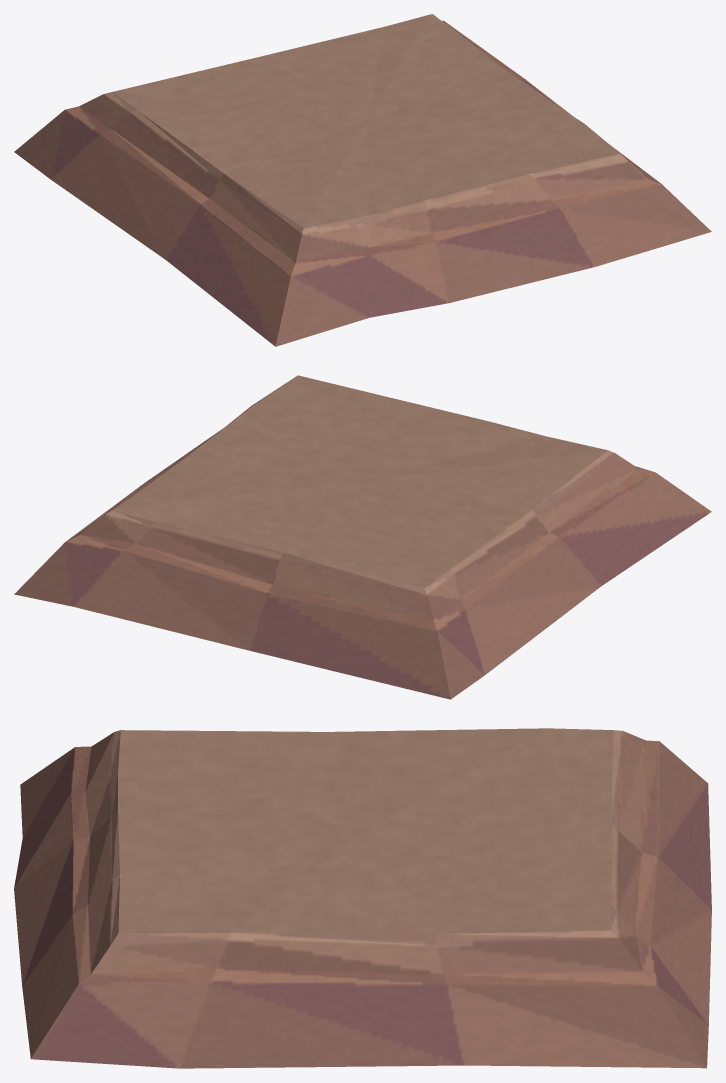
The model's file is Cinder_Square_Hillside_LOD1.glb.
3 views of the same model, one above another, from view 1: azimuth 30°, elevation 25°; view 2: azimuth 150°, elevation 25°; view 3: azimuth 270°, elevation 25° (orthographic). The views are drawn at different scales.
Parts seen in each view (by area): view 1: Cinder_Square_Hillside_LOD1; view 2: Cinder_Square_Hillside_LOD1; view 3: Cinder_Square_Hillside_LOD1.
Boxes of the visible parts, left/top/right/bottom form: Cinder_Square_Hillside_LOD1: left=14, top=14, right=711, bottom=346; Cinder_Square_Hillside_LOD1: left=14, top=375, right=711, bottom=699; Cinder_Square_Hillside_LOD1: left=14, top=728, right=711, bottom=1068.
Size of the model in its own units: 87.08 by 13.68 by 89.27.
Materials: 1 (1 with a texture image).
